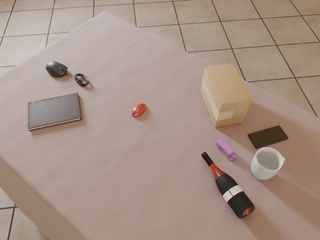book: (28, 93, 82, 131)
bottle: (201, 152, 255, 219)
box: (201, 63, 252, 128)
cup: (251, 147, 286, 180)
mouse: (46, 61, 68, 77), (132, 103, 146, 117)
phone: (248, 125, 288, 148)
toy_car: (216, 138, 237, 161)
